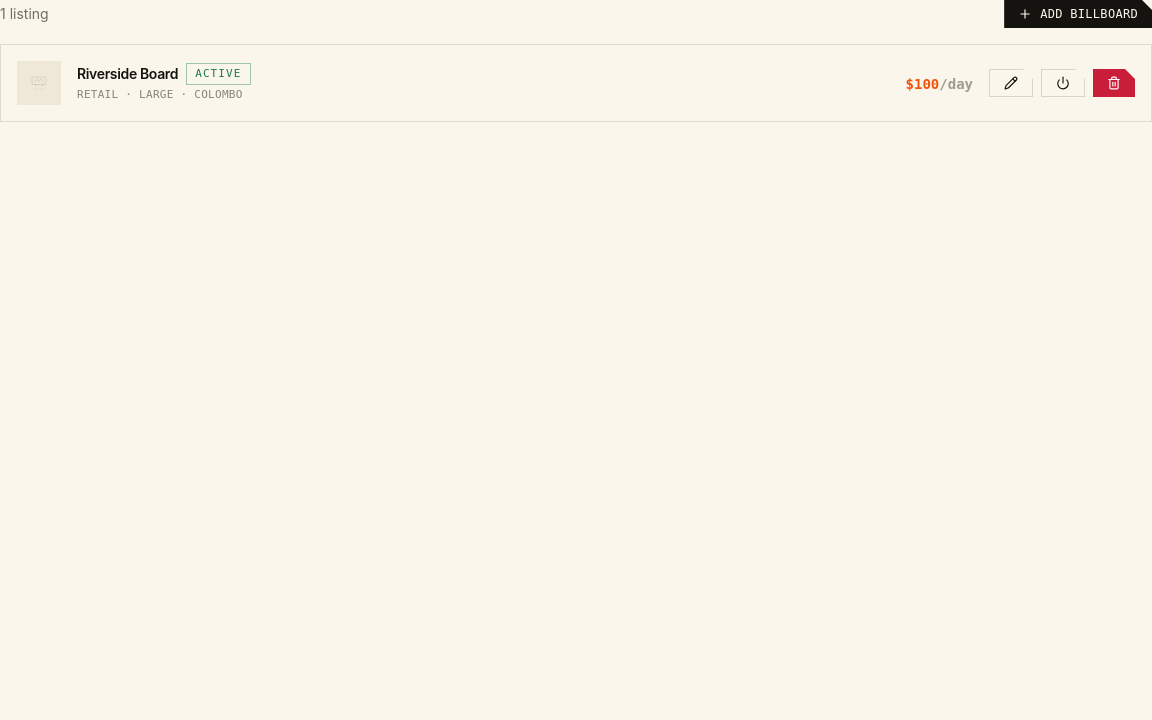
MyBillboardsPanel › archives a listing by default from the remove dialog
Click the button named "Archive or delete Riverside Board". click: click(1114, 83)
box: [1093, 69, 1135, 97]
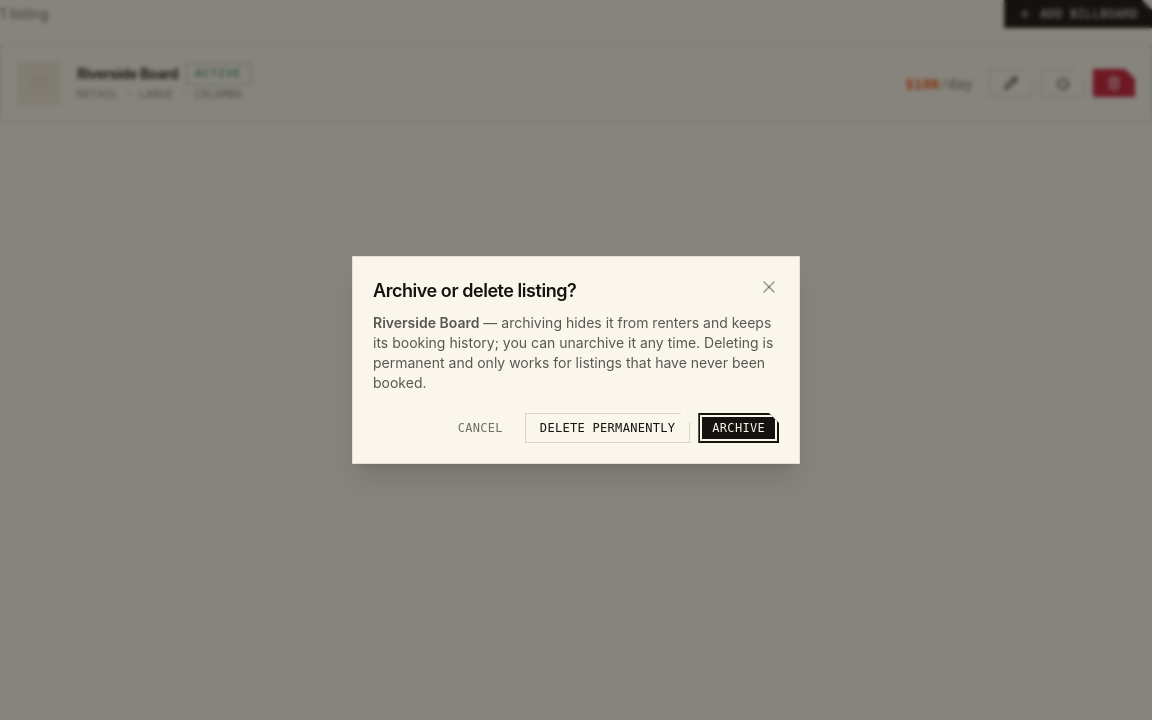
Expected: the dialog shows "archiving hides it", [373, 314, 773, 391]
Click the button "Archive". click: click(739, 428)
box: [698, 413, 779, 443]
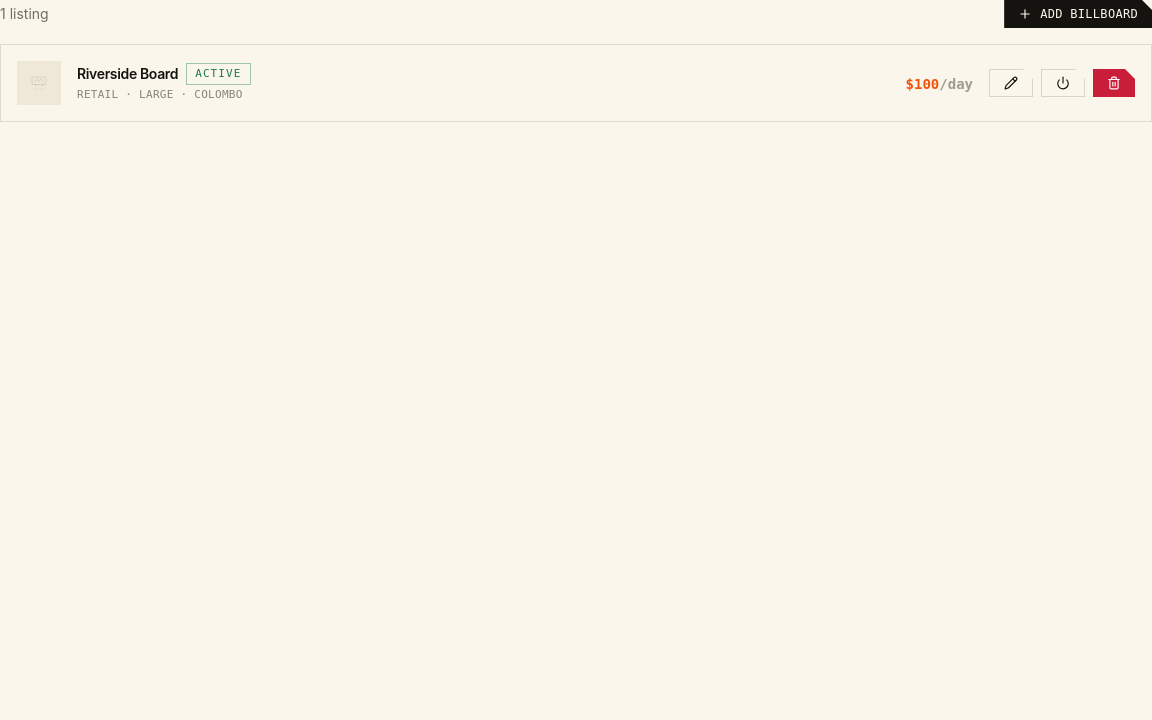
Expected: the dialog is gone
